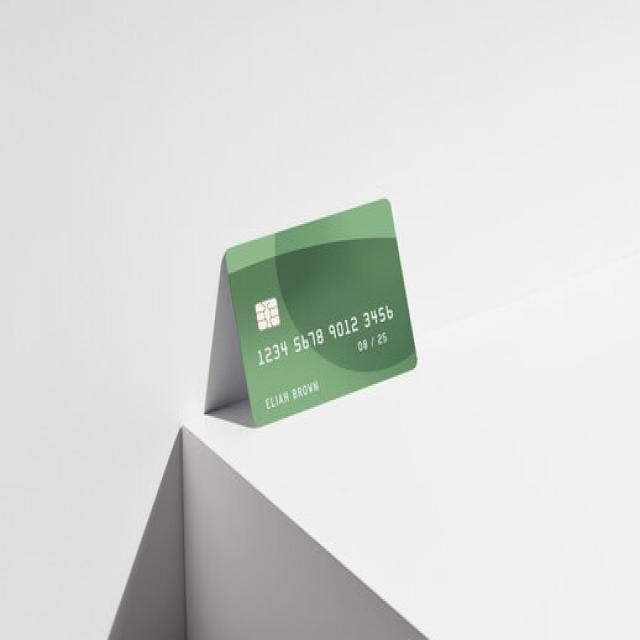payment_card: (215, 196, 418, 427)
